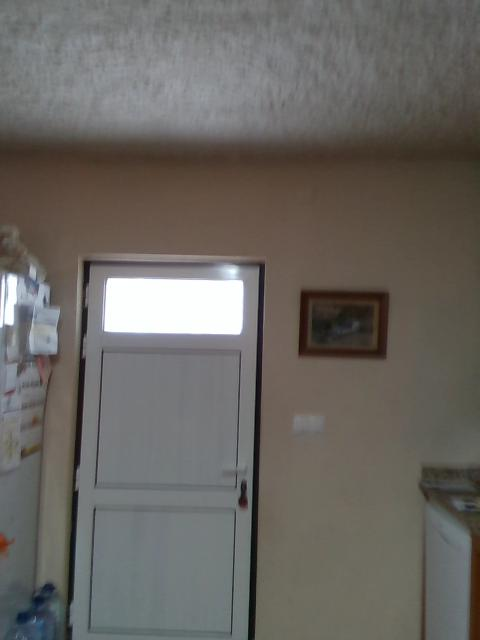door: (71, 266, 259, 638)
